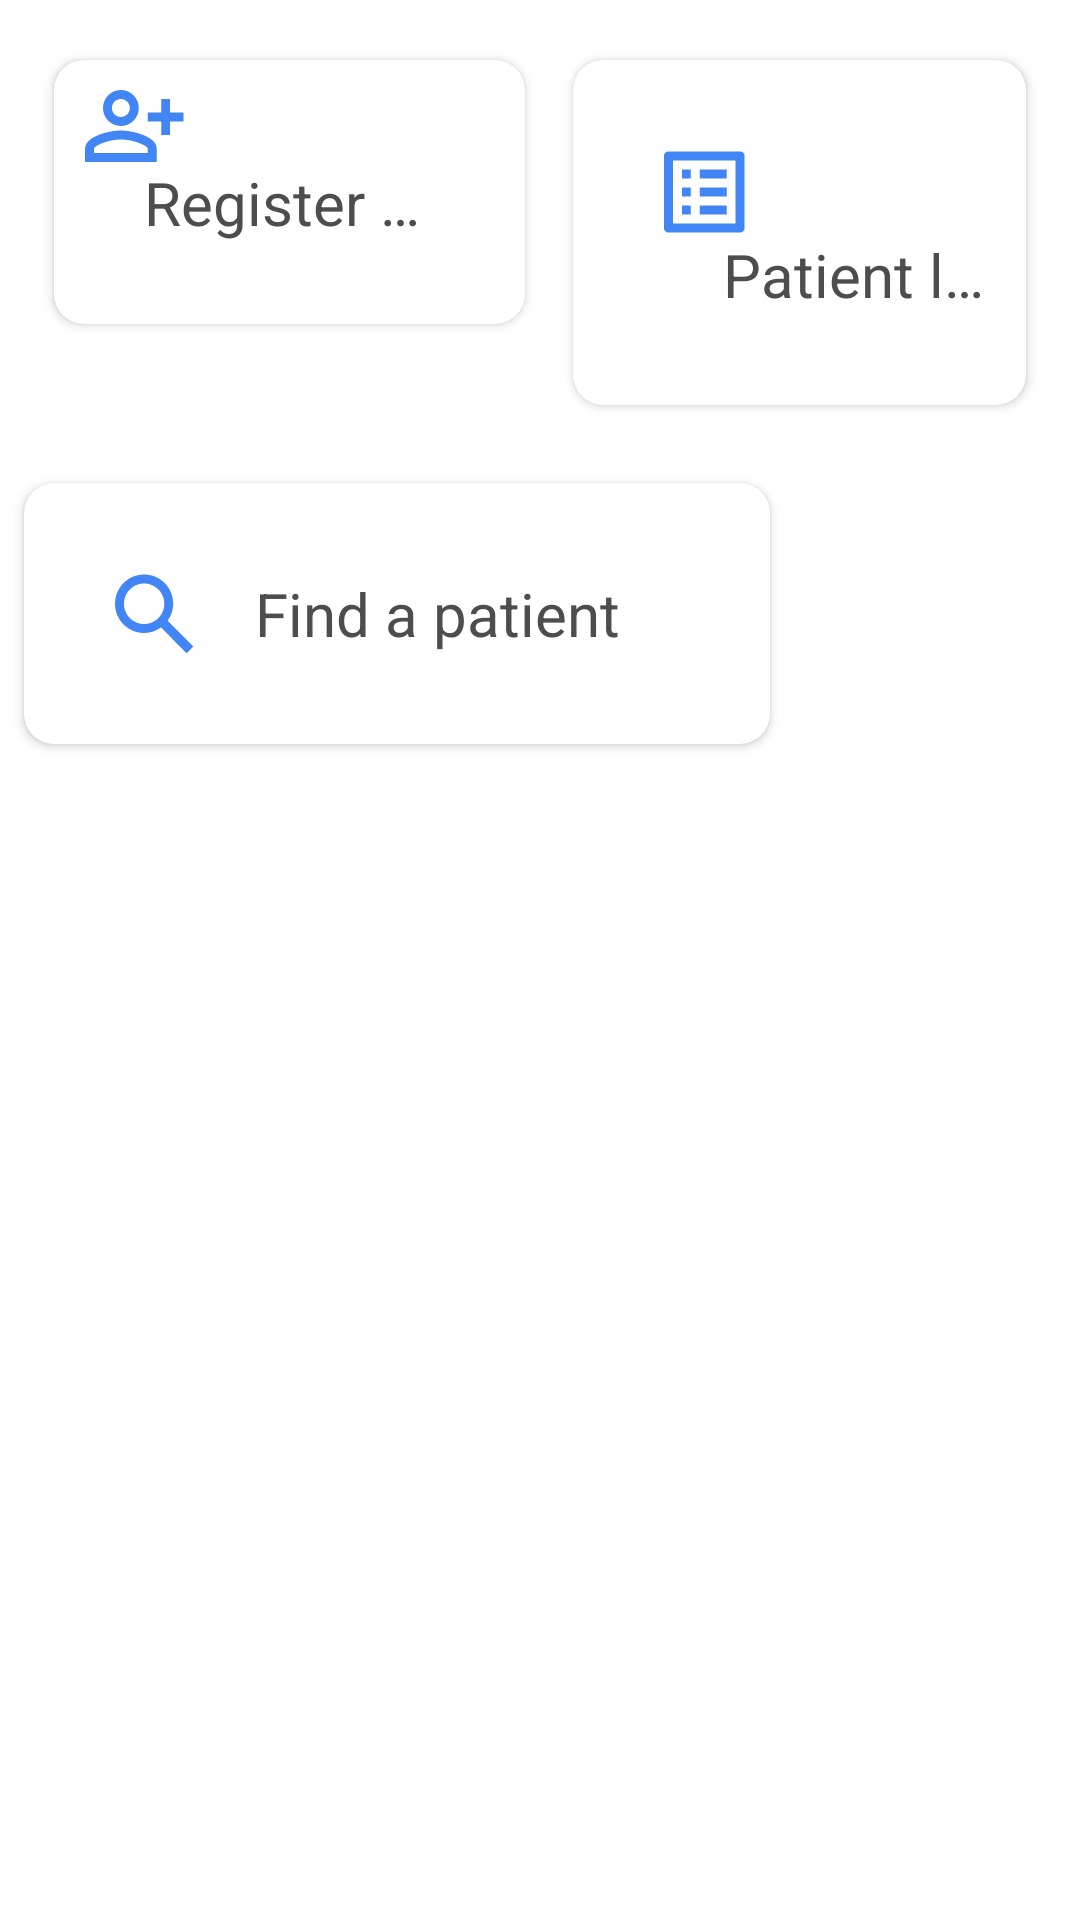

Screen size 1080px x 1920px. Icon name, then its box in pixels as (x1, y1, x2, y2):
home patient: (85, 90, 184, 162)
home search: (115, 574, 193, 653)
